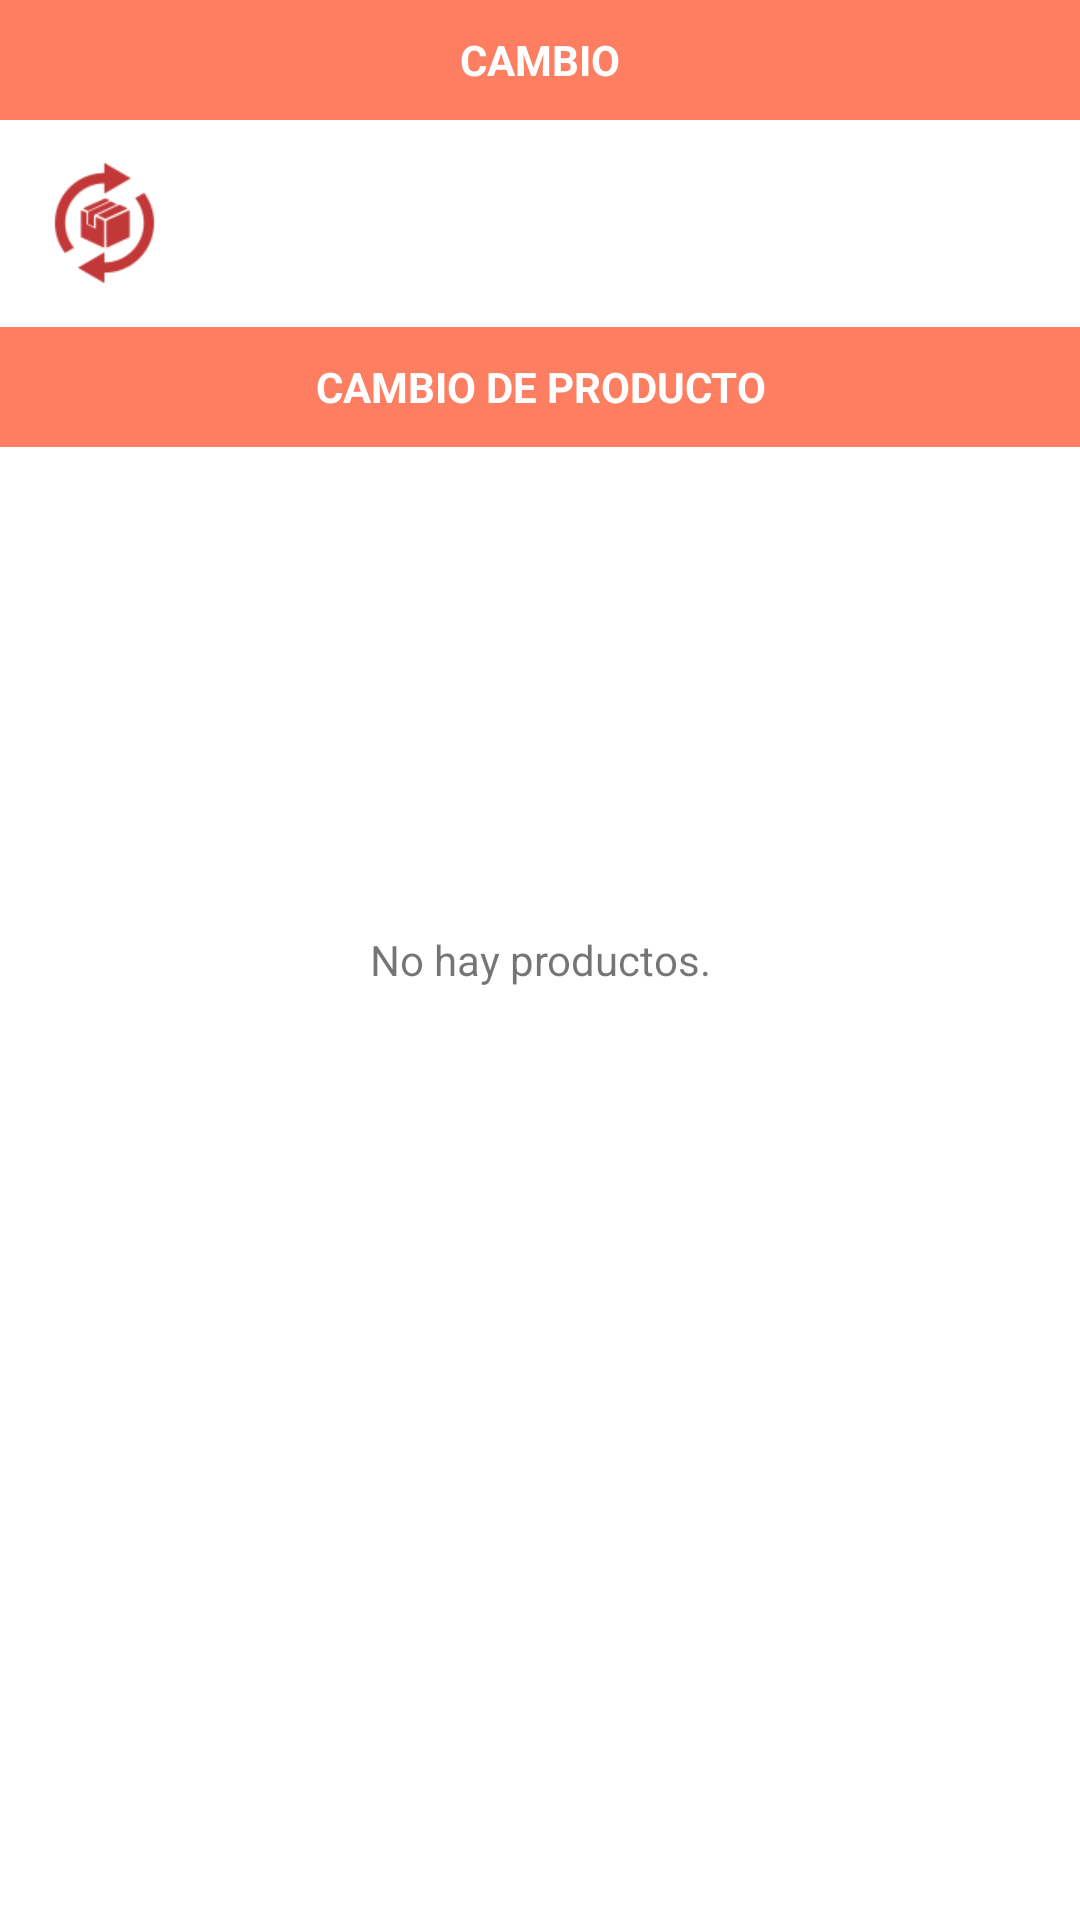

Locate icon controls on the screen. Image size 1080×1920, boxes as (x1, y1, x2, y2).
dashboard product change: (54, 163, 155, 283)
